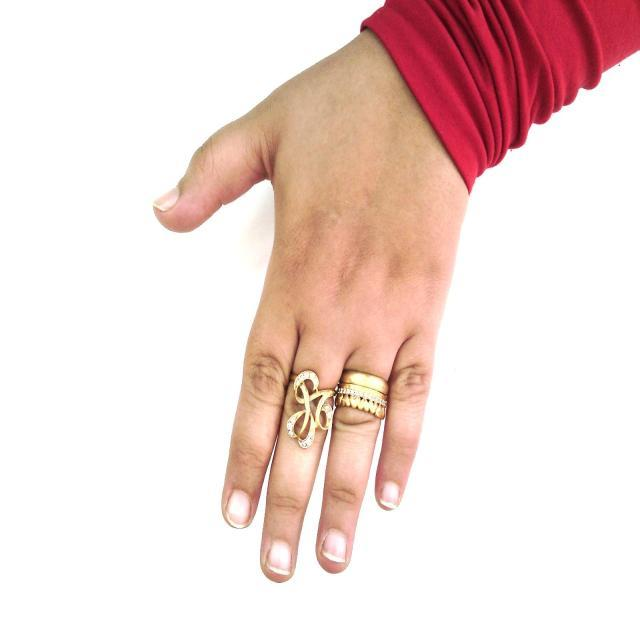Fingernail: (227, 490, 251, 528), (266, 540, 291, 575), (322, 533, 346, 562), (154, 187, 179, 211), (380, 482, 400, 508)
